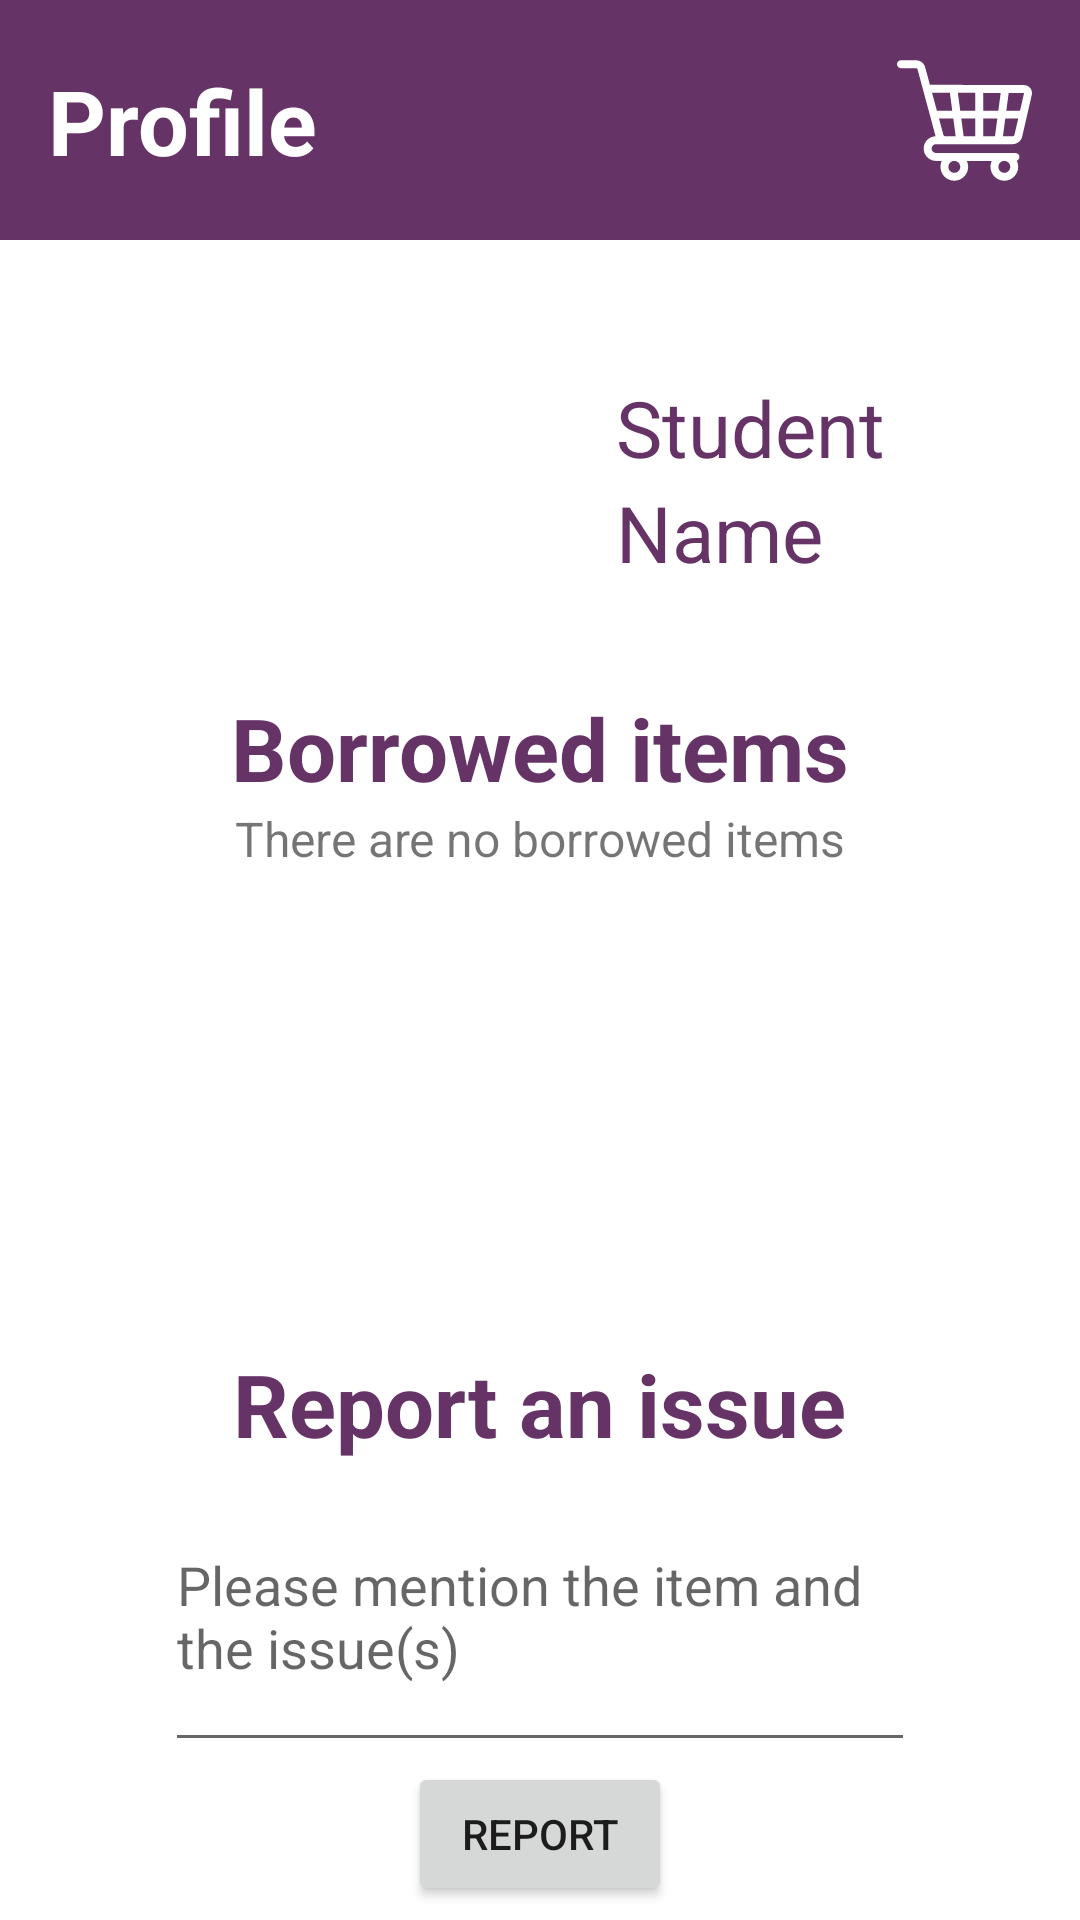

Named icons in this screenshot (1080w x 1920h) and their centers, [x,y]:
cart: [964,120]
